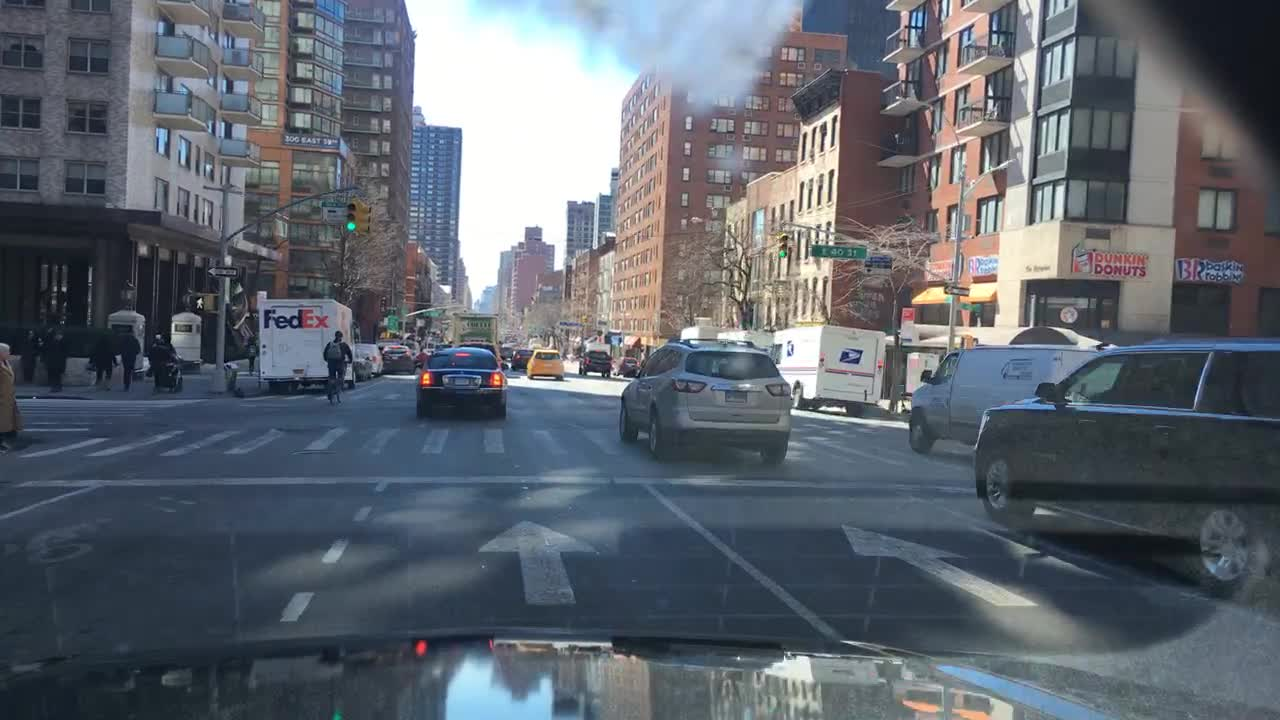bike: (320, 364, 348, 404)
bus: (444, 311, 500, 347)
car: (971, 335, 1279, 602), (904, 341, 1131, 454), (617, 342, 792, 463), (760, 321, 886, 417), (255, 296, 355, 395), (413, 347, 507, 423), (446, 341, 504, 367), (524, 349, 566, 379), (350, 339, 382, 377), (380, 340, 413, 375), (577, 347, 615, 377), (511, 348, 539, 371), (345, 354, 373, 377), (612, 357, 640, 378), (413, 346, 434, 358), (495, 343, 512, 357)
person: (147, 325, 175, 393), (44, 318, 65, 393), (118, 325, 139, 394), (95, 320, 118, 378), (19, 321, 38, 386), (84, 318, 97, 383)
rider: (320, 328, 346, 389)
traffic light: (357, 197, 371, 233), (343, 195, 355, 235), (775, 234, 790, 260)
traffic sign: (810, 240, 866, 260), (864, 253, 895, 275), (317, 197, 345, 221), (205, 267, 240, 279), (942, 281, 970, 296), (418, 305, 441, 319), (385, 316, 399, 331)
